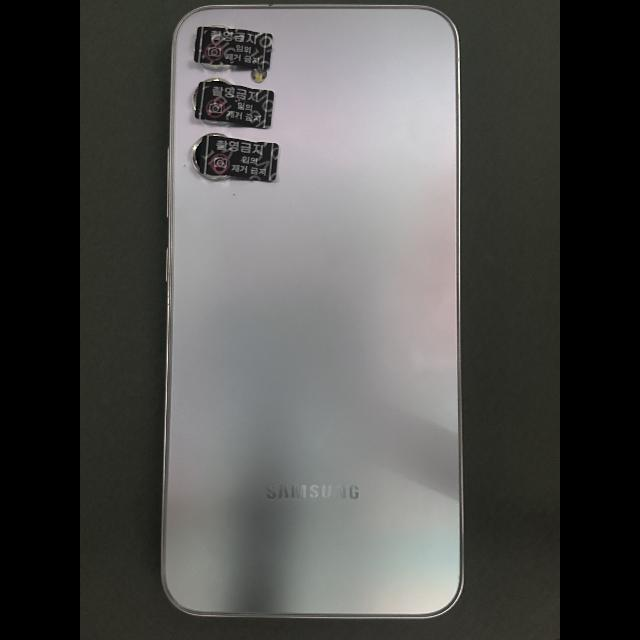lens: (193, 134, 228, 179), (202, 63, 231, 70), (204, 79, 232, 85)
phone: (160, 4, 465, 619)
sticker: (195, 82, 274, 129), (200, 136, 279, 182), (194, 26, 273, 70)
